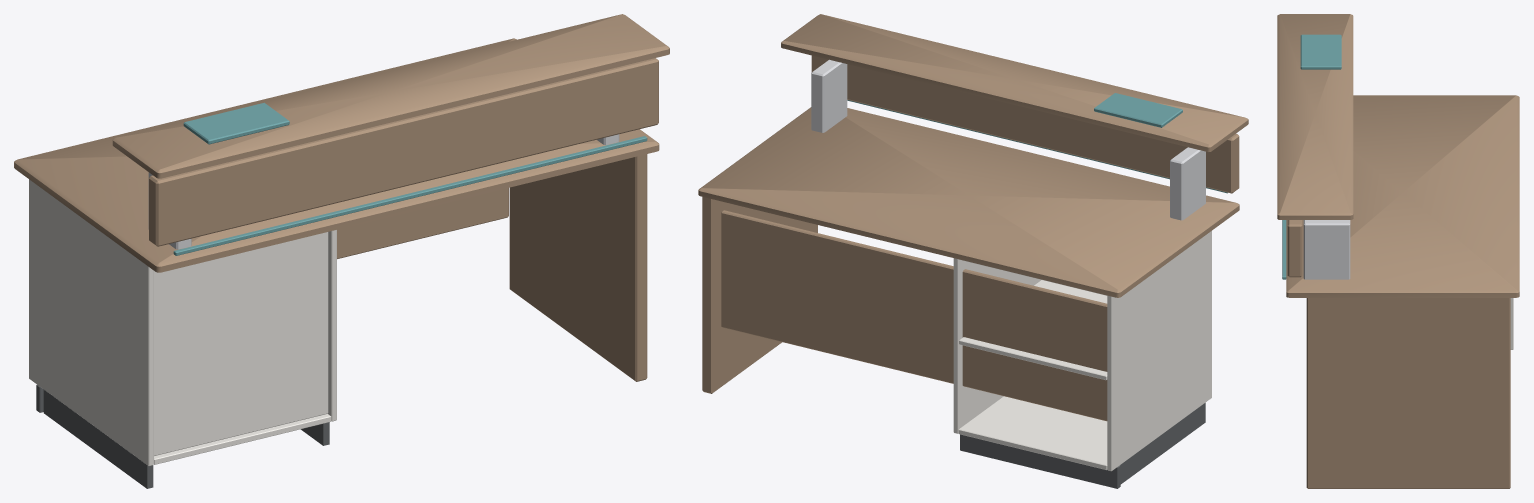
Rendered from hotel-and-resort-operations-concierge-desk-17831da4__25858.glb.
3 renders of one model, left to right at view 1: azimuth 30°, elevation 25°; view 2: azimuth 150°, elevation 25°; view 3: azimuth 270°, elevation 25°, orthographic. The views are drawn at different scales.
Visible parts, largest first — view 1: concierge-desk; view 2: concierge-desk; view 3: concierge-desk.
Boxes of the visible parts, x1=… form: concierge-desk: x1=14, y1=14, x2=669, y2=488; concierge-desk: x1=698, y1=14, x2=1248, y2=488; concierge-desk: x1=1277, y1=14, x2=1519, y2=488.
Size of the model in its own units: 1.63 by 1.06 by 0.83.
